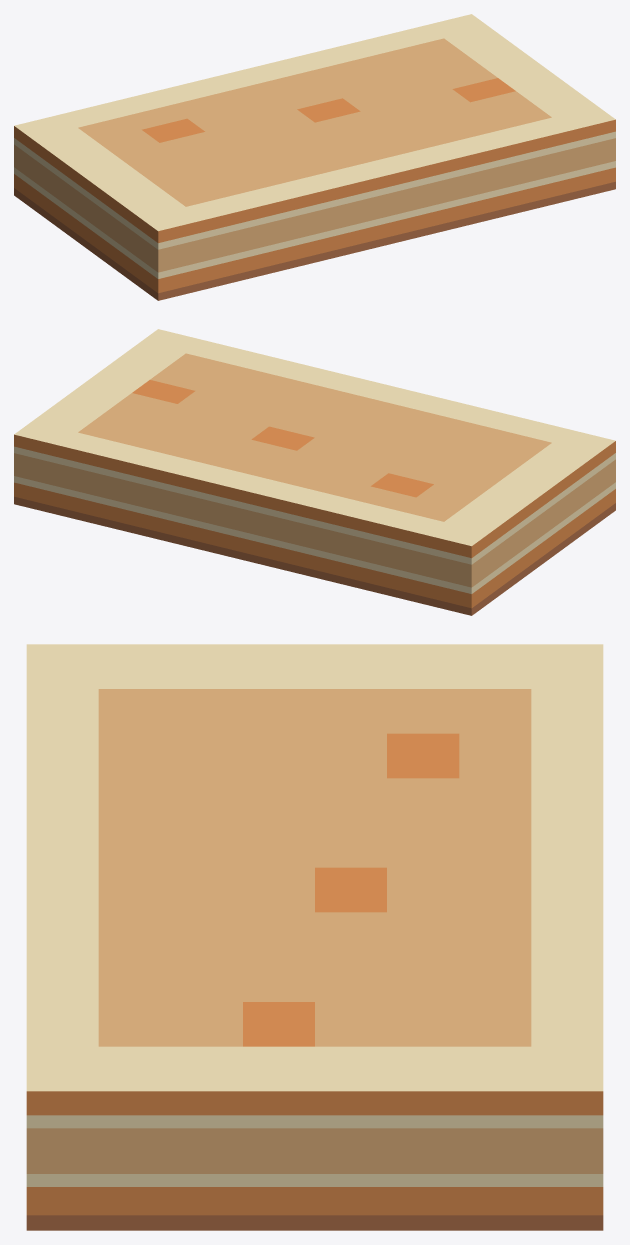
Rendered from deck_canyon.glb.
3 views of the same model, one above another, from view 1: azimuth 30°, elevation 25°; view 2: azimuth 150°, elevation 25°; view 3: azimuth 270°, elevation 25° (orthographic). The views are drawn at different scales.
Visible parts, largest first — view 1: detail_Mesa sand, detail_Chalk cream, detail_Clay orange, detail_Red sandstone; view 2: detail_Mesa sand, detail_Chalk cream, detail_Clay orange, detail_Red sandstone; view 3: detail_Mesa sand, detail_Chalk cream, detail_Clay orange, detail_Red sandstone.
Part boxes in pixels (box(x1,y1,x2,y2)): detail_Mesa sand: box(14, 38, 615, 272); detail_Chalk cream: box(14, 14, 615, 278); detail_Clay orange: box(14, 78, 615, 293); detail_Red sandstone: box(14, 181, 615, 300); detail_Mesa sand: box(14, 353, 615, 587); detail_Chalk cream: box(14, 329, 615, 593); detail_Clay orange: box(14, 380, 615, 608); detail_Red sandstone: box(14, 496, 615, 615); detail_Mesa sand: box(26, 689, 603, 1173); detail_Chalk cream: box(26, 644, 603, 1186); detail_Clay orange: box(26, 733, 603, 1215); detail_Red sandstone: box(26, 1215, 603, 1230).
Bounding box in the file's own units: 22 × 3.2 × 12.
